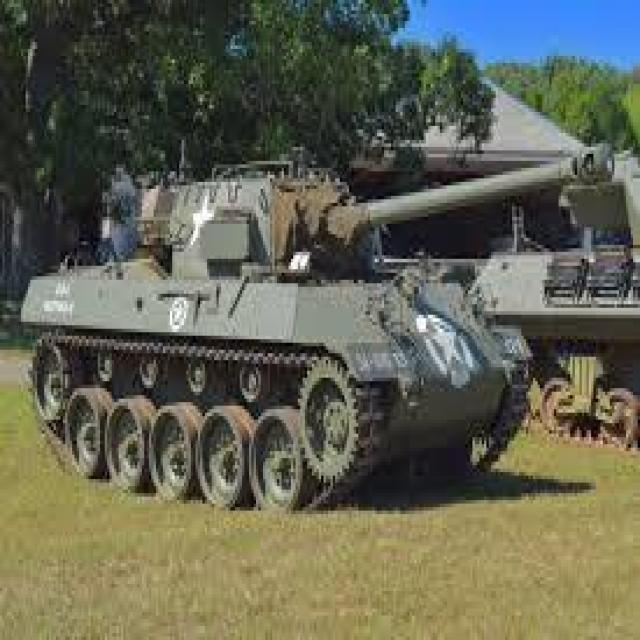Tanks: (16, 52, 570, 574)
